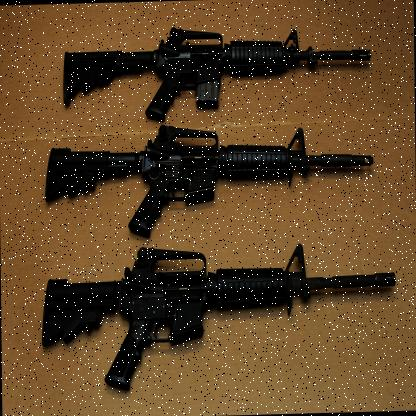rifle: (33, 247, 397, 400), (38, 124, 374, 250), (56, 26, 375, 130)
